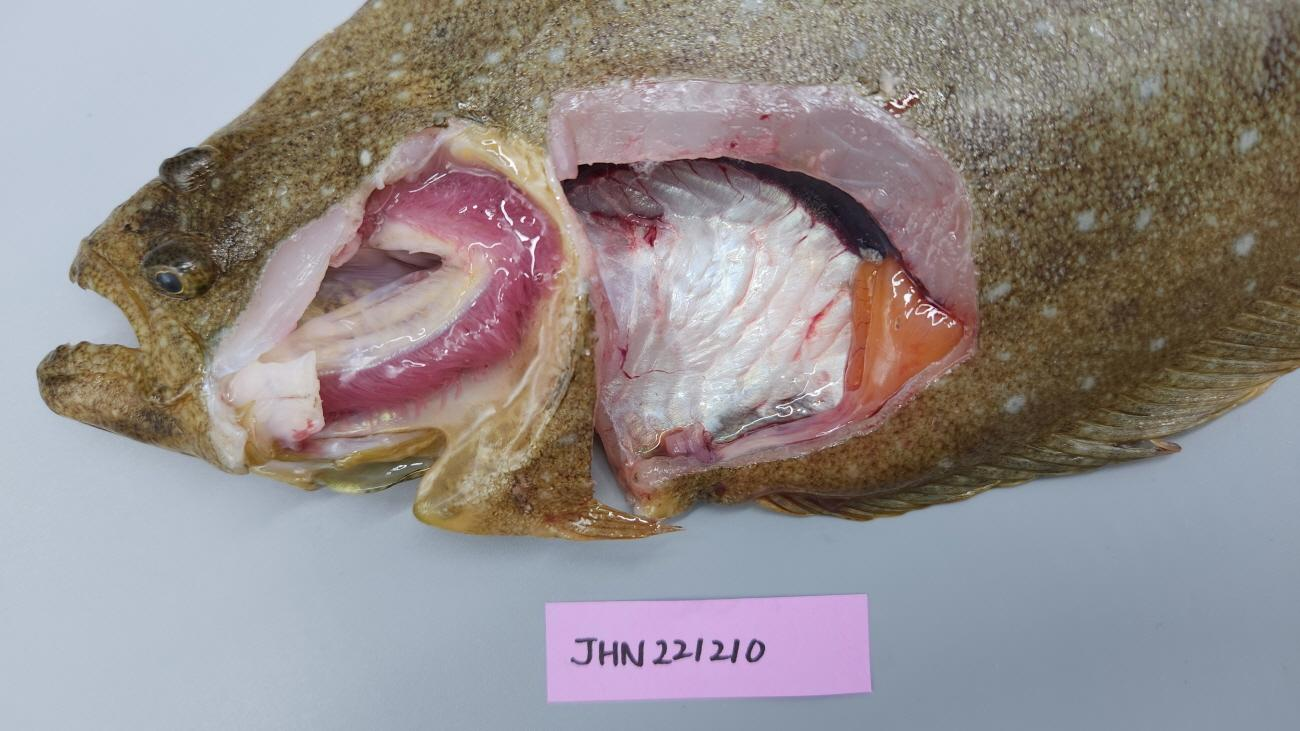POASN: (559, 158, 864, 469)
POREN: (664, 256, 964, 462)
